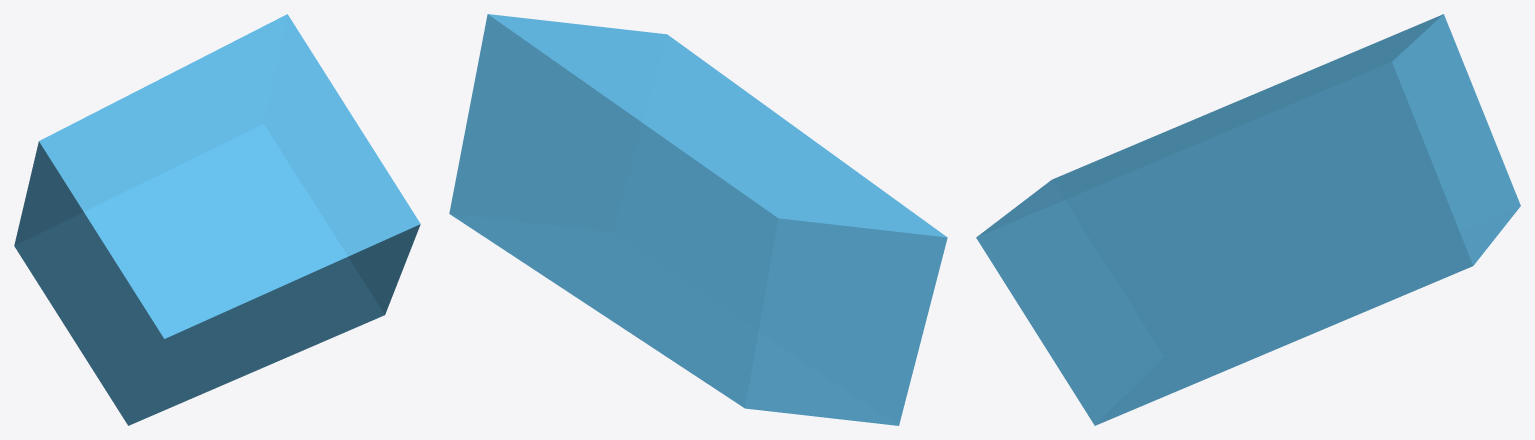
Rendered from Event_421364160_HErechit_45.fbx.
The picture shows the model from 3 angles, left to right: view 1: azimuth 30°, elevation 25°; view 2: azimuth 150°, elevation 25°; view 3: azimuth 270°, elevation 25°; orthographic projection. The views are drawn at different scales.
Visible parts, largest first — view 1: Model; view 2: Model; view 3: Model.
Part boxes in pixels (left/top/right/bottom): Model: left=14, top=14, right=420, bottom=425; Model: left=449, top=14, right=947, bottom=425; Model: left=976, top=14, right=1520, bottom=425.
Size of the model in its own units: 0.6837 by 0.8416 by 0.8811.
